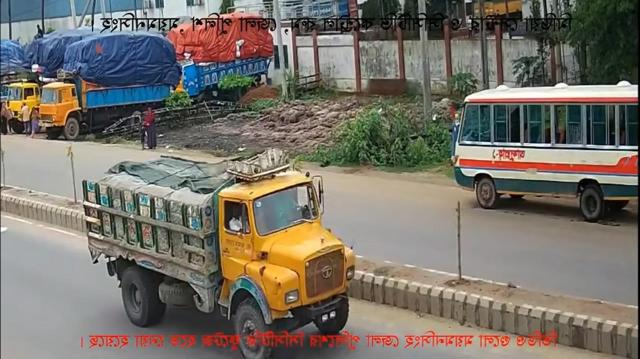bus: (445, 68, 640, 215)
truck: (70, 147, 361, 359), (40, 29, 176, 145), (173, 8, 273, 103), (3, 31, 53, 127)
